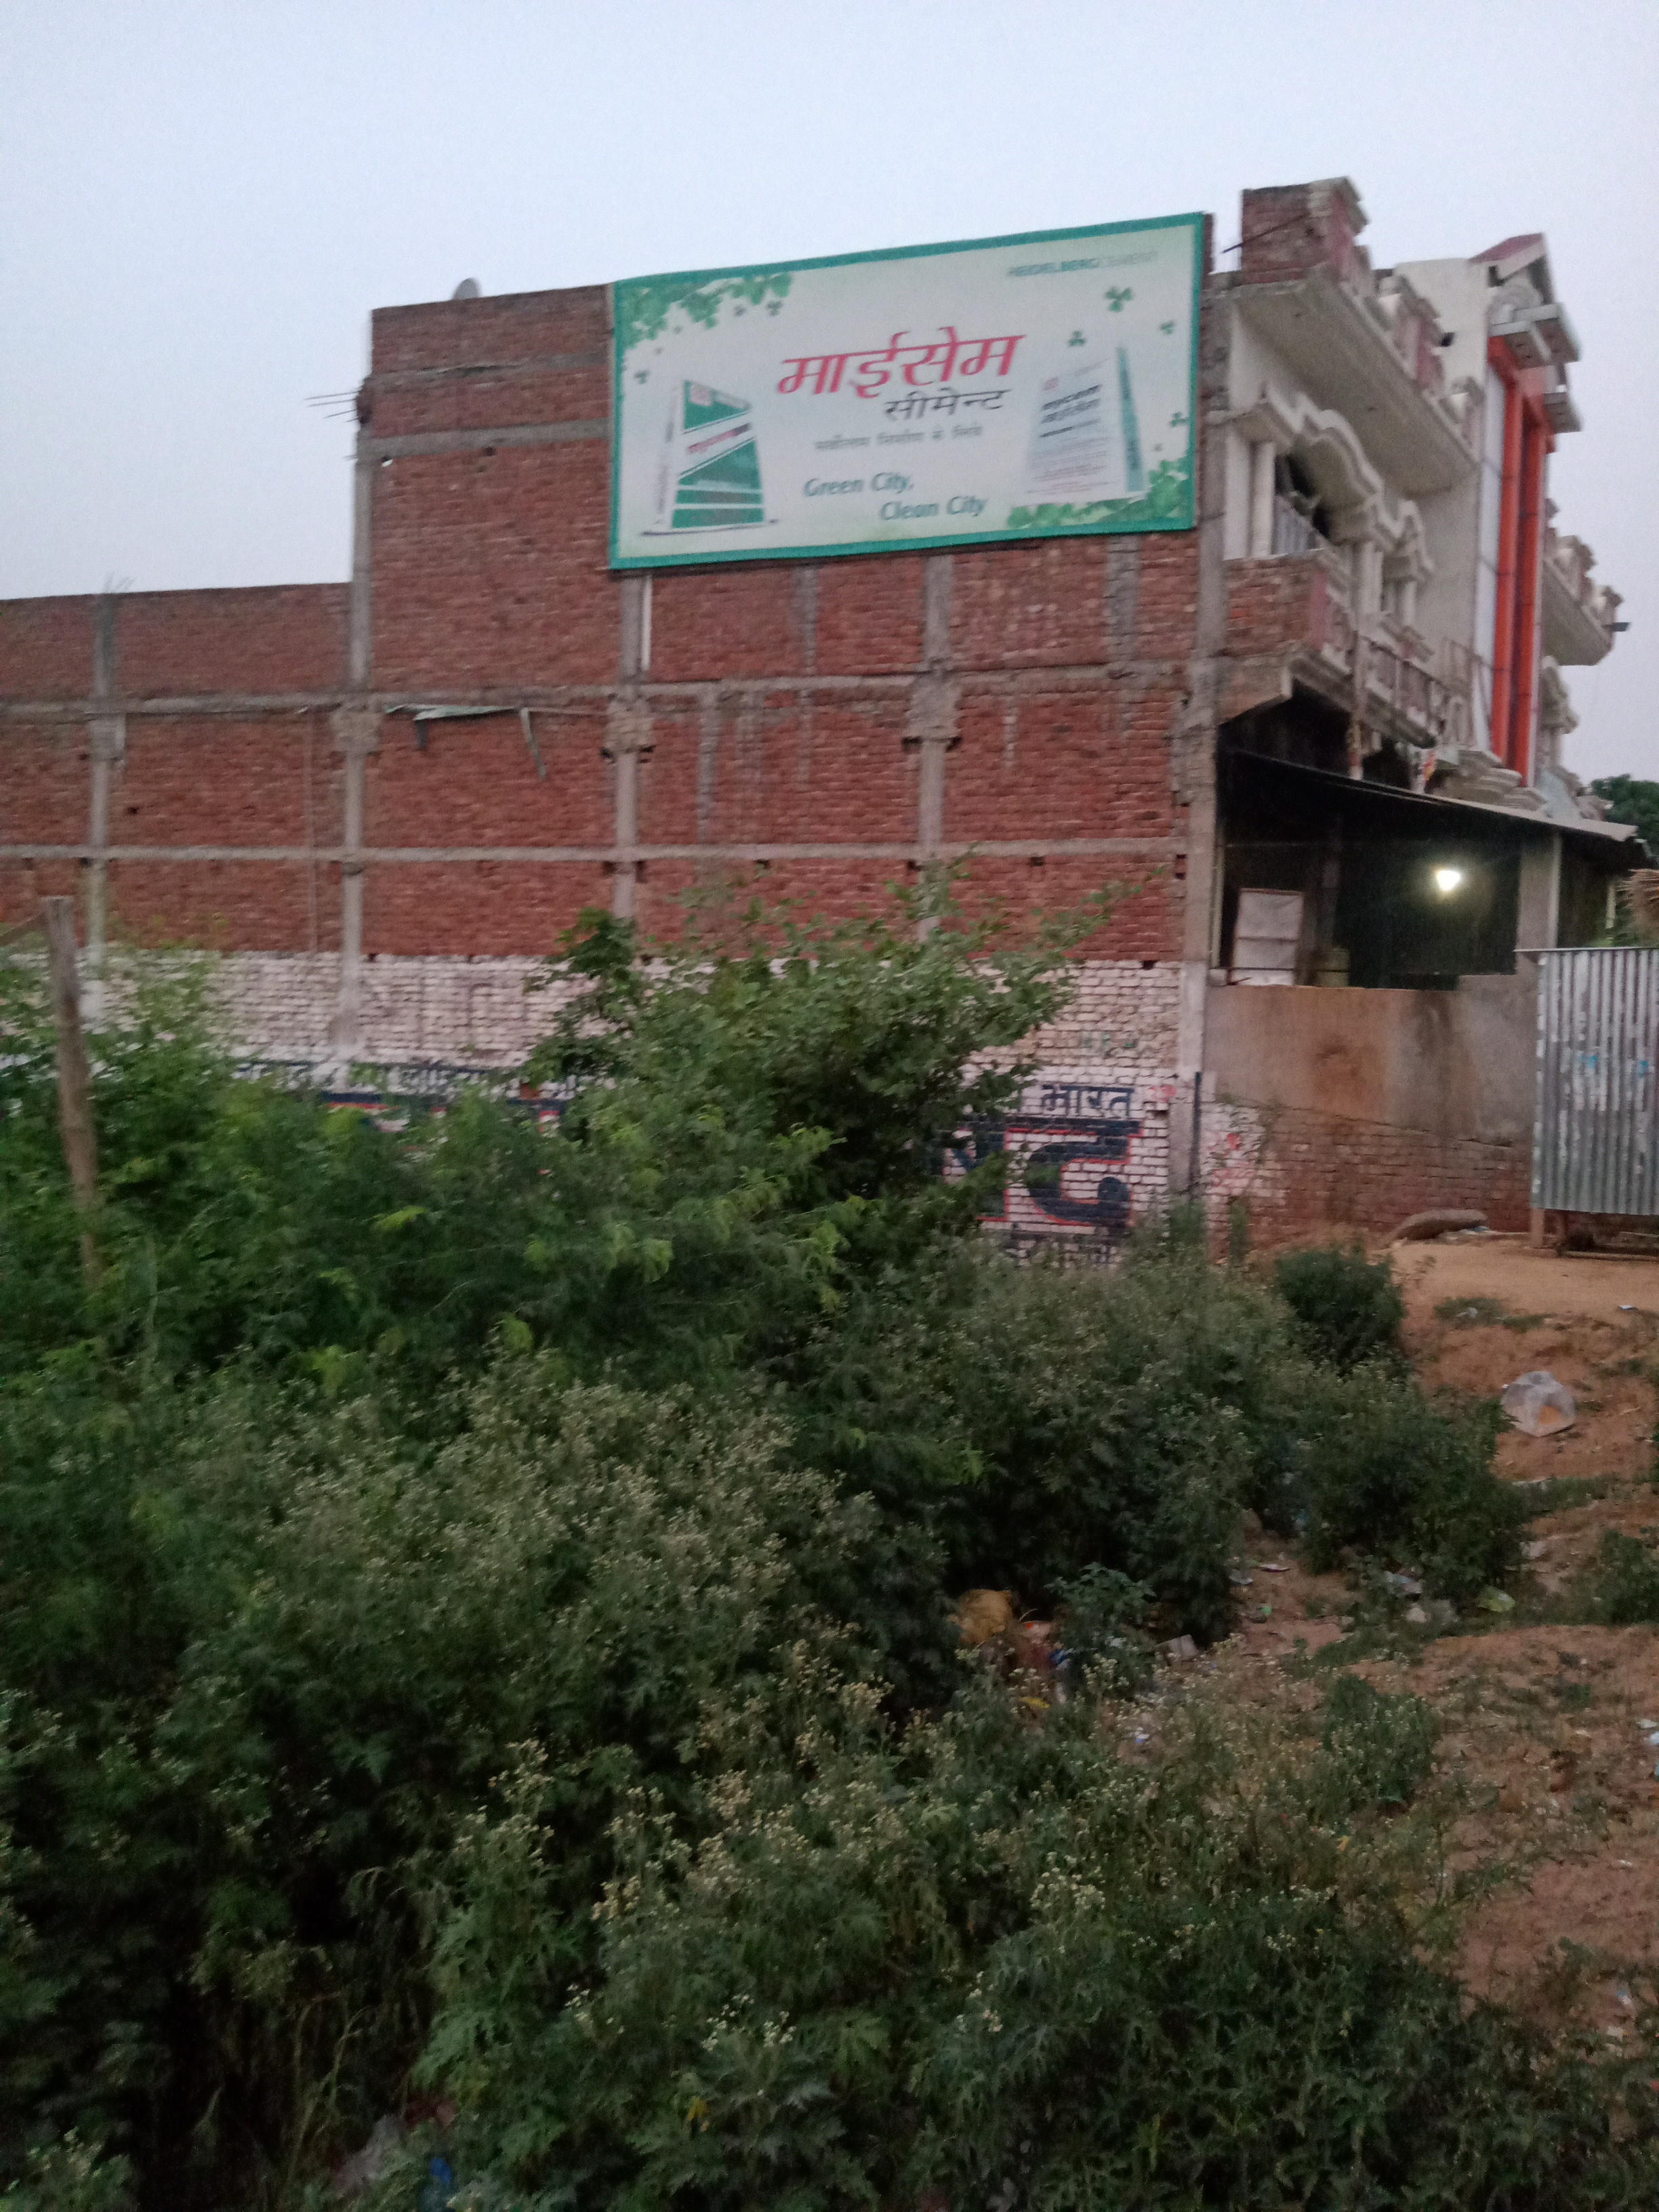text: (612, 212, 1209, 557)
